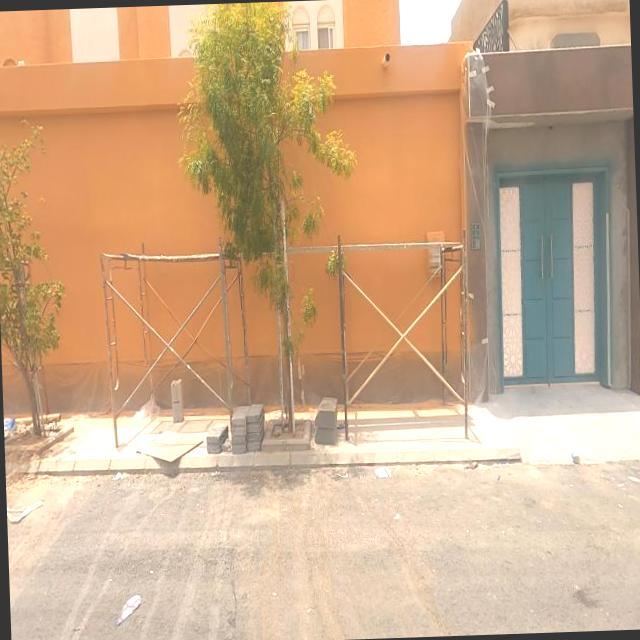debris: (102, 389, 225, 538), (108, 339, 186, 460), (5, 460, 69, 558), (350, 426, 423, 510), (2, 377, 39, 464)
